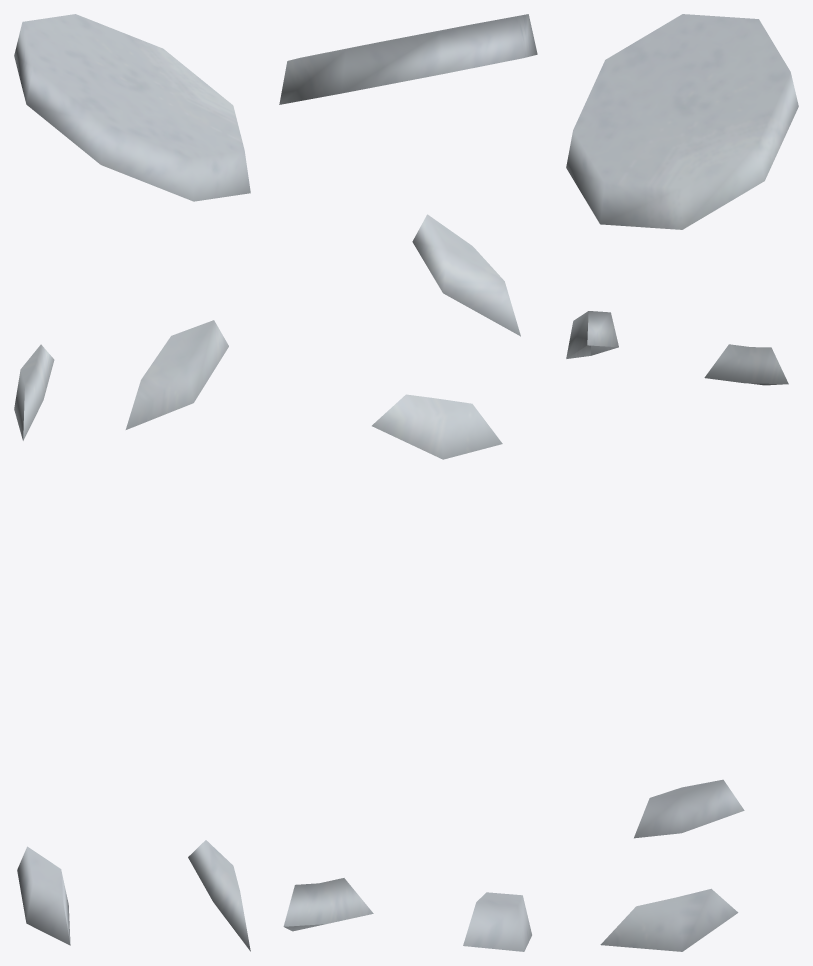
File: Pillar_6_Snow.fbx
3 renders of one model, left to right at view 1: azimuth 30°, elevation 25°; view 2: azimuth 150°, elevation 25°; view 3: azimuth 270°, elevation 25°, orthographic. The views are drawn at different scales.
Parts seen in each view (by area): view 1: Pillar_6_Snow; view 2: Pillar_6_Snow; view 3: Pillar_6_Snow.
Part boxes in pixels (x1,y1,x2,y2): Pillar_6_Snow: (14, 14, 250, 951); Pillar_6_Snow: (279, 14, 537, 951); Pillar_6_Snow: (566, 14, 798, 951).
Size of the model in its own units: 83.4 by 340 by 83.4.
